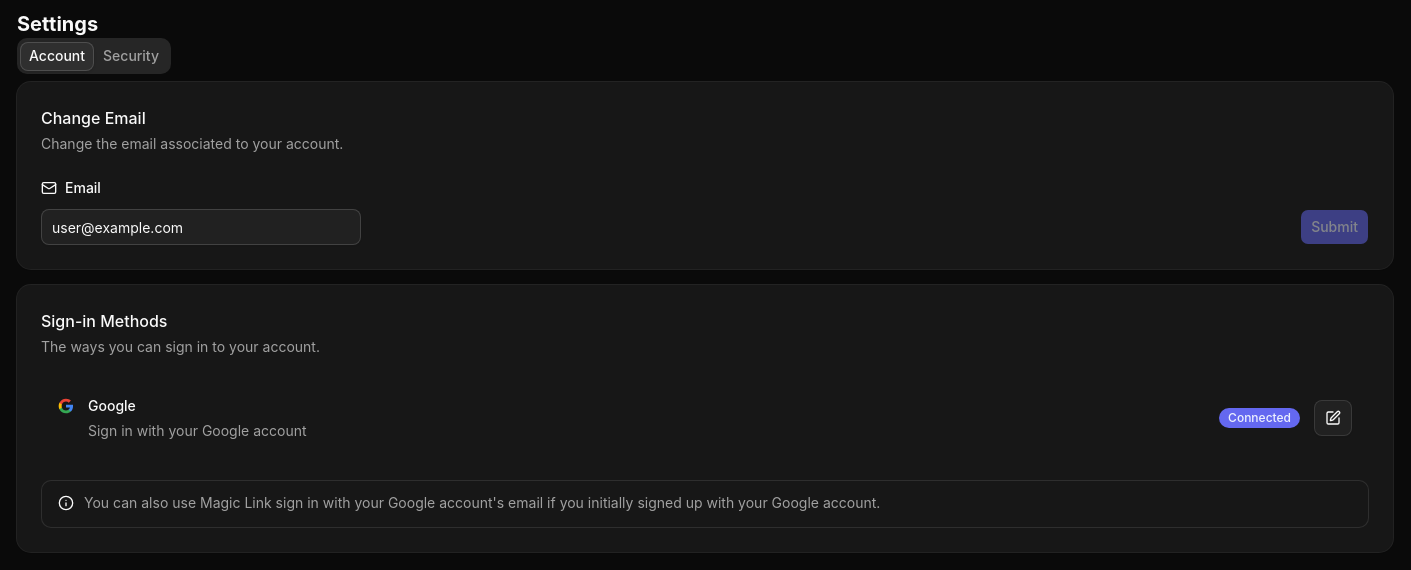
Test case: Settings Page › Security tab › renders sign-out buttons in security tab
Step 1. Click the tab "Security" → (131, 56), box [94, 42, 168, 70]
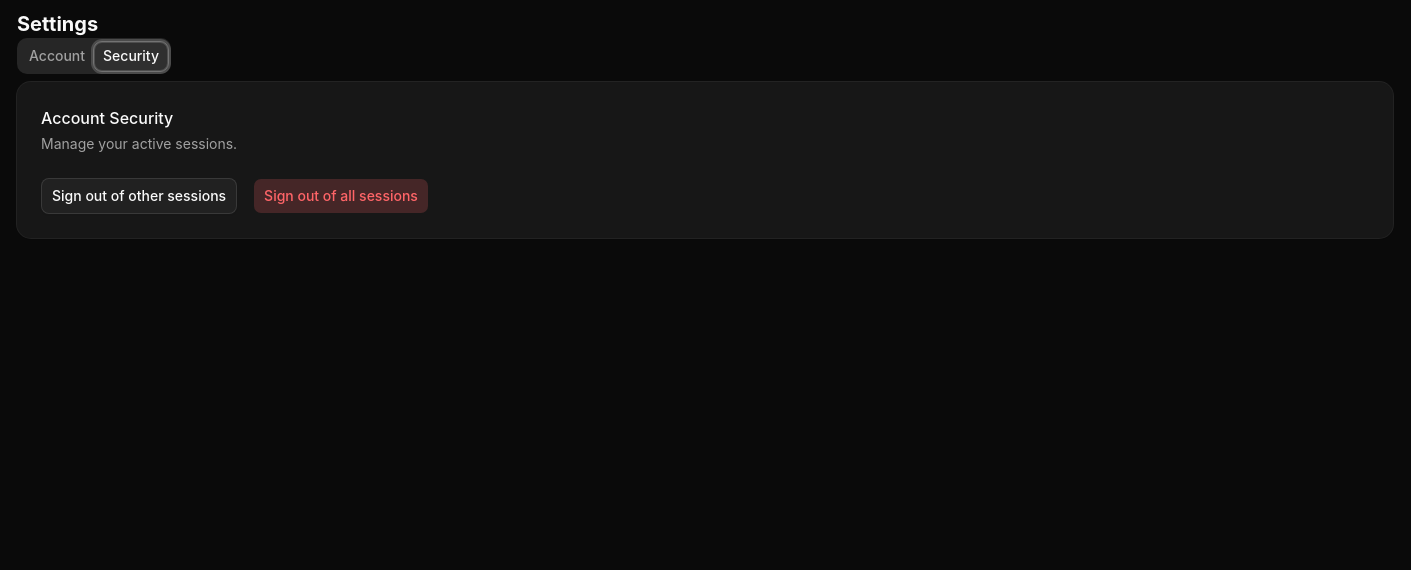
Expected: the button "Sign out of other sessions" is shown, [41, 178, 237, 214]
Expected: the button "Sign out of all sessions" is shown, [253, 178, 429, 214]
